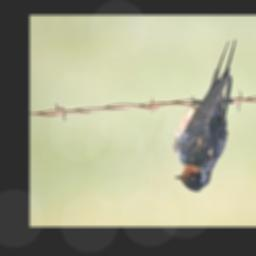Swallow: (174, 39, 240, 195)
